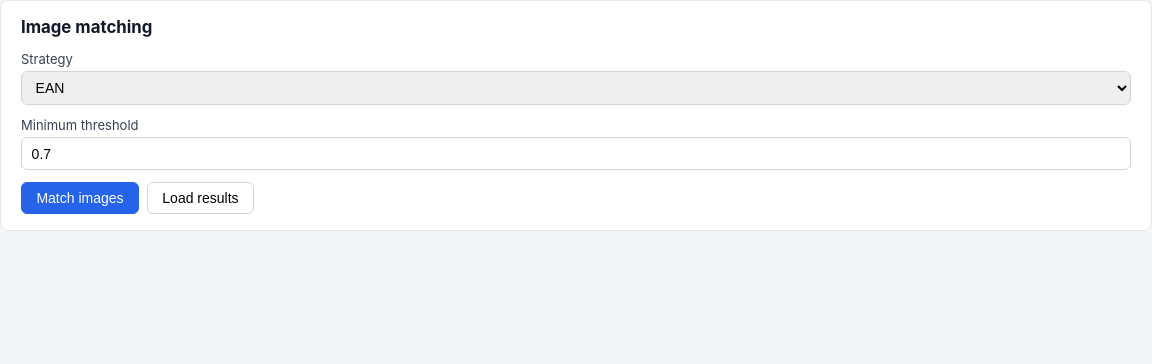
Test: ImageMatchingPanel › runs matching with the selected strategy and threshold
This screenshot has width=1152, height=364.
Select "Reference" in the dropdown labelled "Strategy" at (576, 88), box x1=21 y1=71 x2=1131 y2=105
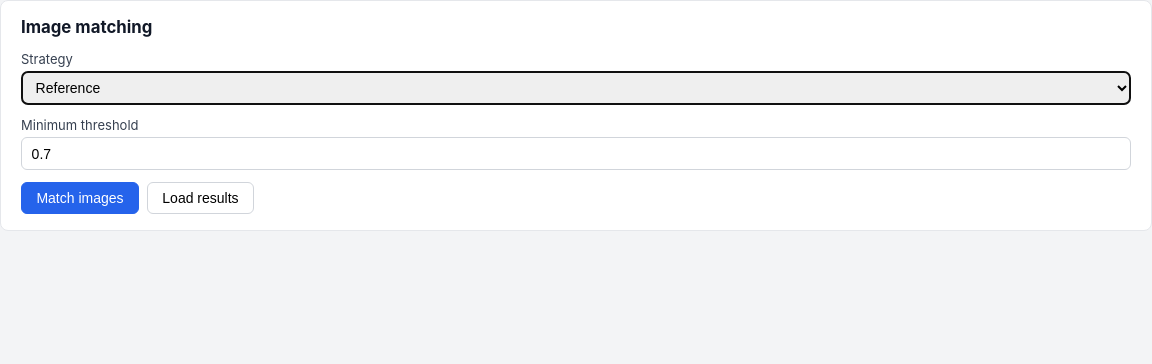
Replace the text in the number field labelled "Minimum threshold" with "0.5" at (576, 154), box x1=21 y1=137 x2=1131 y2=170
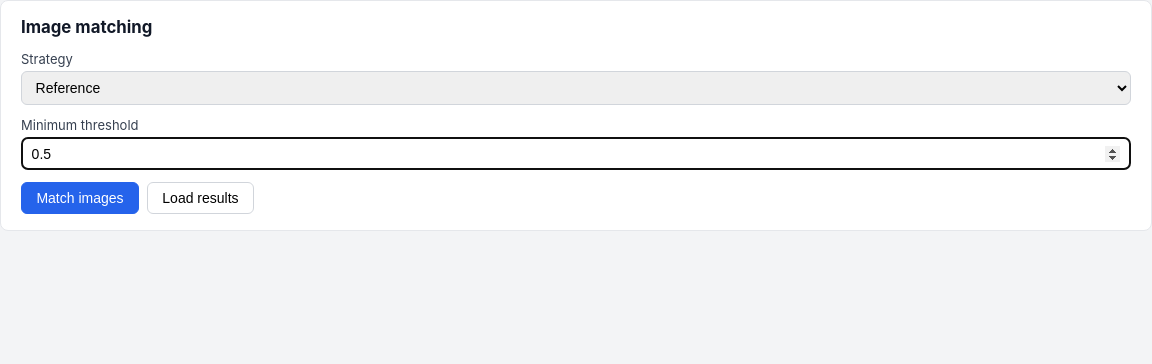
Click the button "Match images".
click(80, 198)  # box x1=21 y1=182 x2=139 y2=214
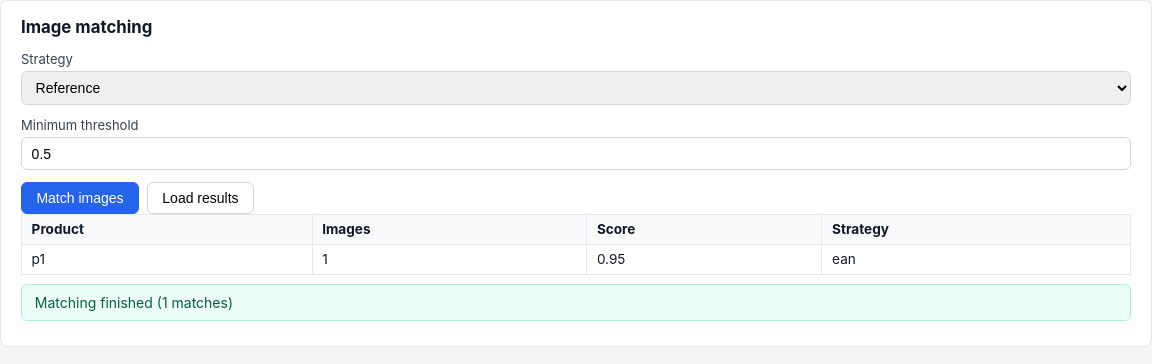
expect the text "Matching finished (1 matches)" is shown: met, box x1=21 y1=284 x2=1131 y2=321
expect the text "p1" is shown: met, box x1=22 y1=244 x2=312 y2=274
expect the text "0.95" is shown: met, box x1=587 y1=244 x2=822 y2=274
